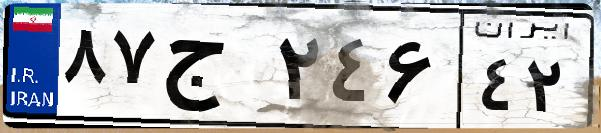2: (270, 28, 330, 110), (525, 38, 570, 115)
4: (330, 28, 385, 110), (475, 38, 525, 113)
6: (385, 28, 445, 110)
7: (110, 28, 158, 98)
8: (57, 26, 110, 100)
ج: (158, 20, 270, 120)
